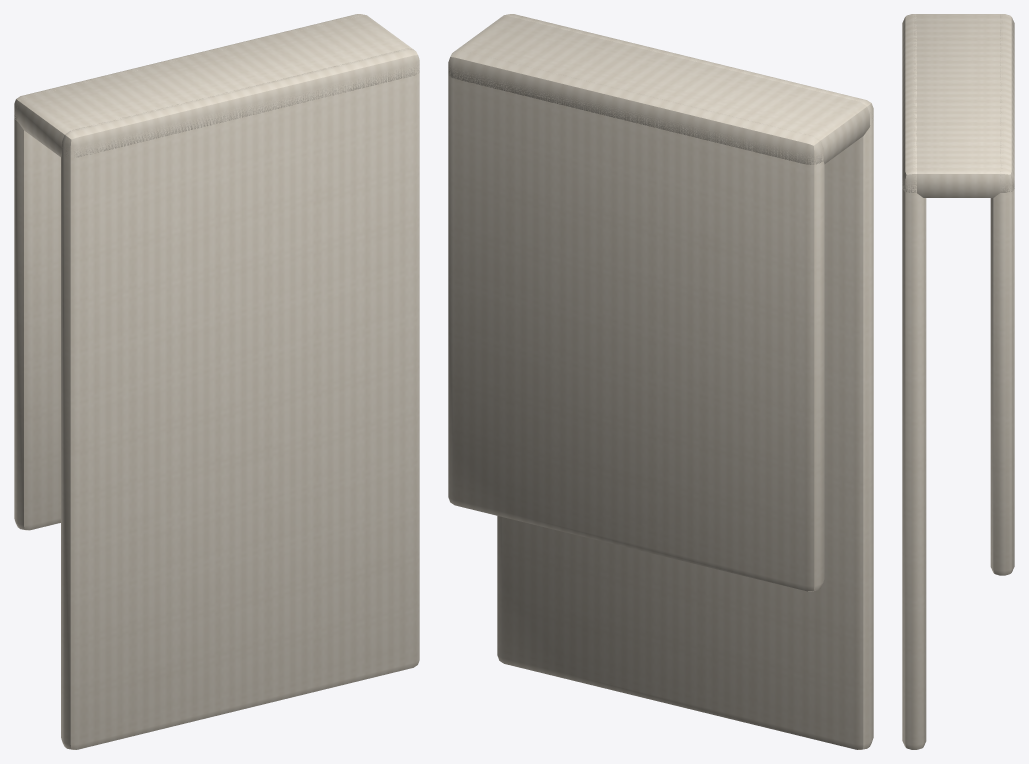
Rendered from SM_Towel_Draped.fbx.
The picture shows the model from 3 angles, left to right: view 1: azimuth 30°, elevation 25°; view 2: azimuth 150°, elevation 25°; view 3: azimuth 270°, elevation 25°; orthographic projection. The views are drawn at different scales.
Visible parts, largest first — view 1: SM_Towel_Draped; view 2: SM_Towel_Draped; view 3: SM_Towel_Draped.
Boxes of the visible parts, box(x1,y1,x2,y2) form: SM_Towel_Draped: box(14, 14, 419, 749); SM_Towel_Draped: box(448, 14, 873, 749); SM_Towel_Draped: box(902, 14, 1014, 749).
Size of the model in its own units: 0.24 by 0.4 by 0.07.
1 material, 1 textured.
